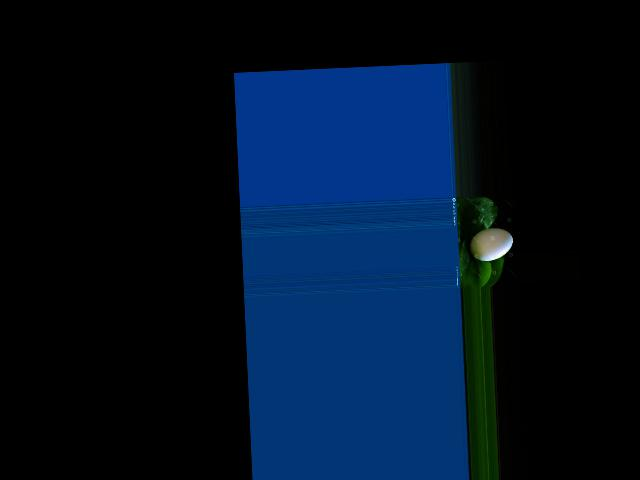egg: (468, 227, 513, 262)
